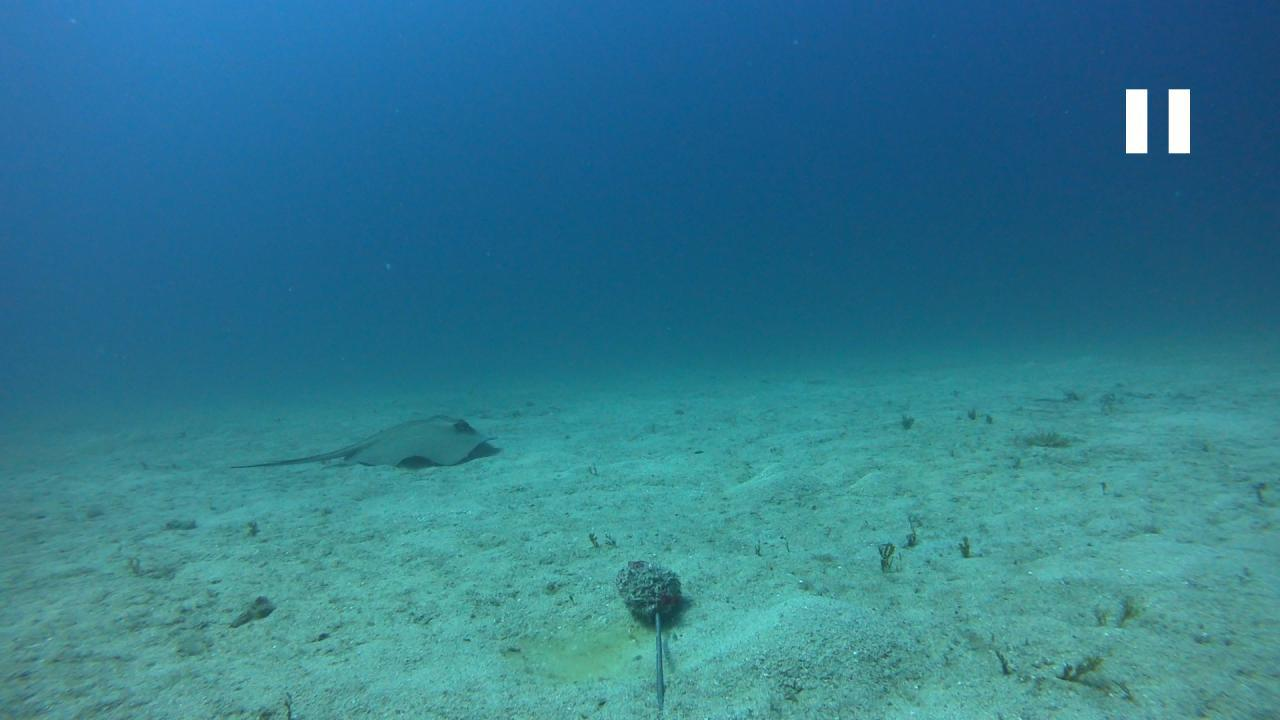dasyatis: (228, 412, 501, 469)
